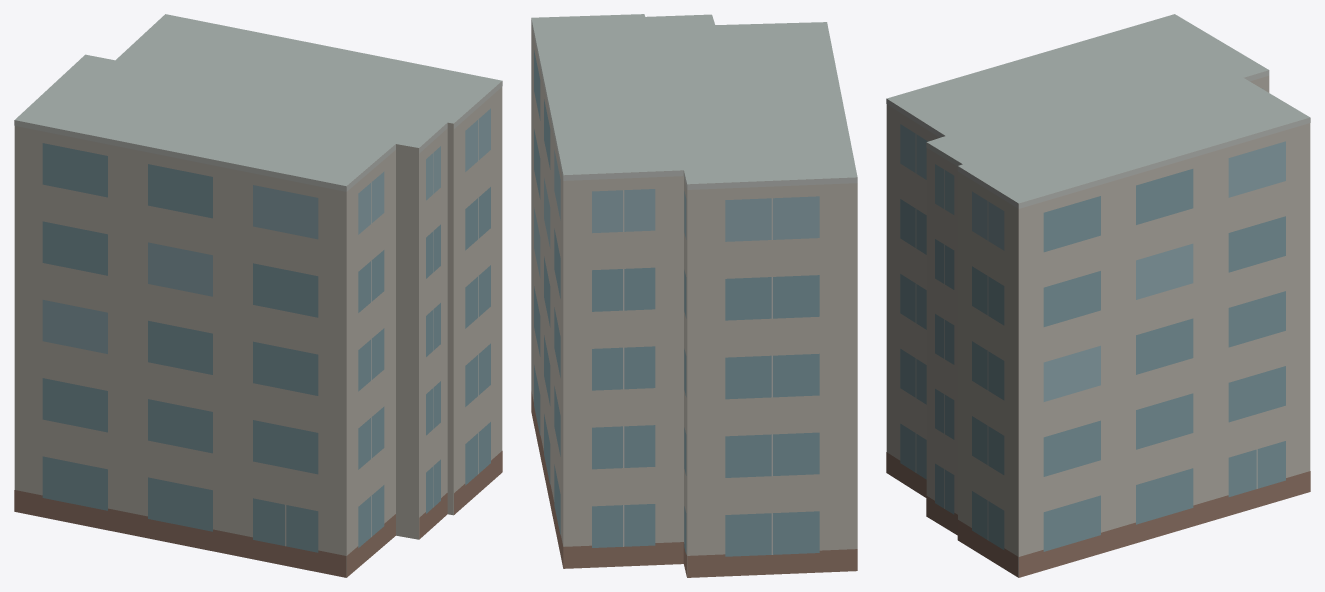
Rendered from survey-upis-32845828.glb.
3 renders of one model, left to right at view 1: azimuth 30°, elevation 25°; view 2: azimuth 150°, elevation 25°; view 3: azimuth 270°, elevation 25°, orthographic. The views are drawn at different scales.
Visible parts, largest first — view 1: survey-upis-32845828.tmp; view 2: survey-upis-32845828.tmp; view 3: survey-upis-32845828.tmp.
Boxes of the visible parts, x1,y1,x2,y2 form: survey-upis-32845828.tmp: (14,14,502,577); survey-upis-32845828.tmp: (531,14,857,577); survey-upis-32845828.tmp: (886,14,1310,577).
Size of the model in its own units: 18.14 by 16.7 by 17.15.
